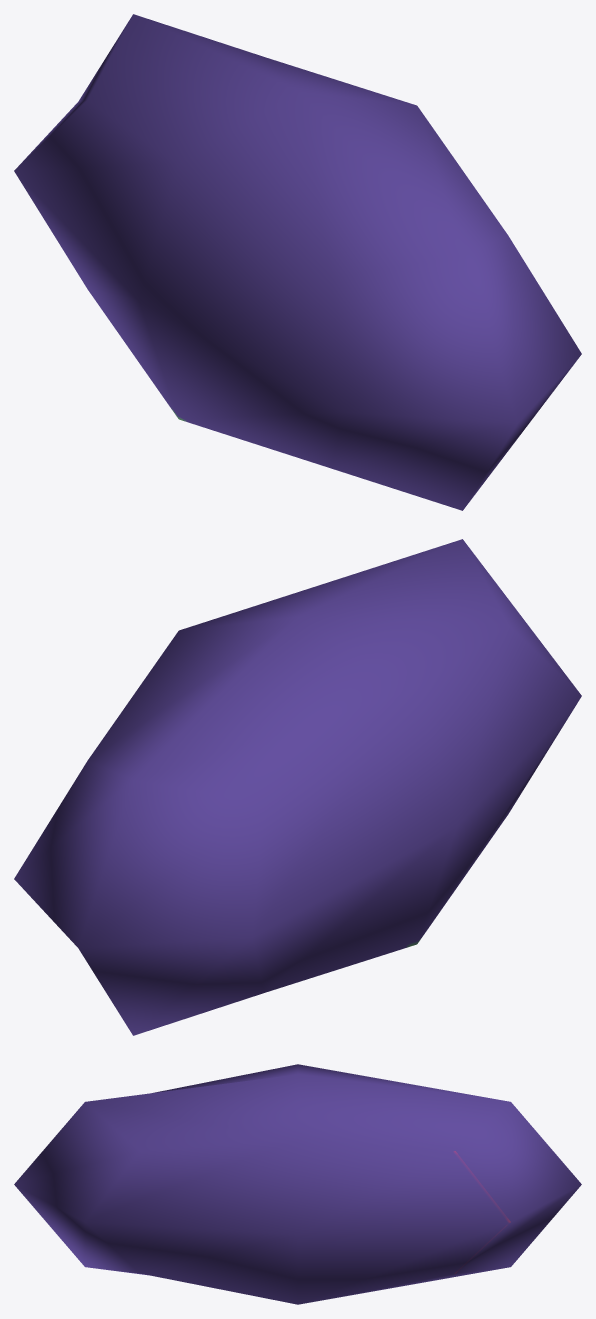
The model's file is mainguy bullet.fbx.
3 views of the same model, one above another, from view 1: azimuth 30°, elevation 25°; view 2: azimuth 150°, elevation 25°; view 3: azimuth 270°, elevation 25° (orthographic). The views are drawn at different scales.
Parts seen in each view (by area): view 1: pCube1; view 2: pCube1; view 3: pCube1.
Part boxes in pixels (x1=…): pCube1: x1=14, y1=14, x2=581, y2=510; pCube1: x1=14, y1=539, x2=581, y2=1035; pCube1: x1=14, y1=1064, x2=581, y2=1304.
Bounding box in the file's own units: 0.2852 × 0.2922 × 0.6825.
1 material, 1 textured.
